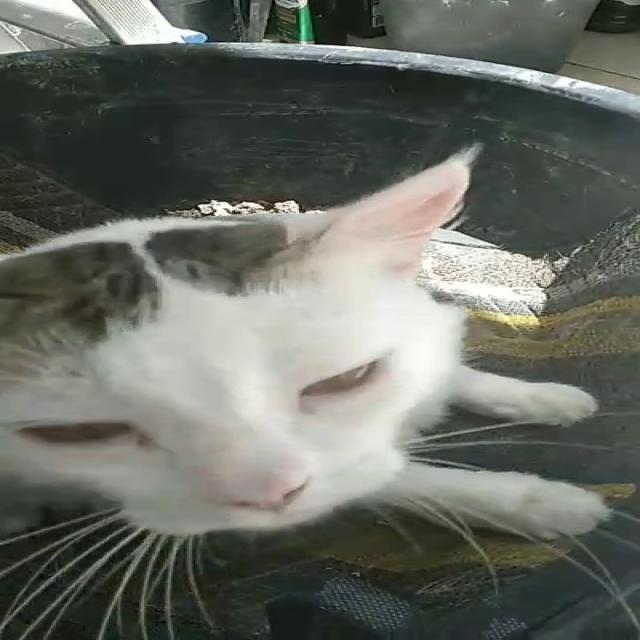Simba: (7, 130, 630, 584)
